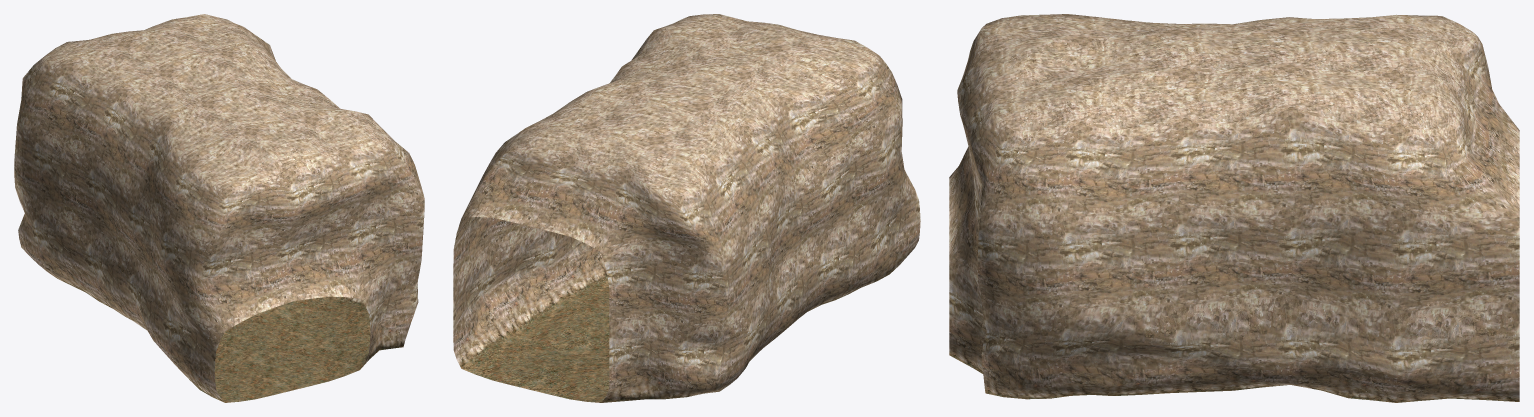
Rendered from thm_all_cave_s03_mirror_r10_mesh_r10.fbx.
3 renders of one model, left to right at view 1: azimuth 30°, elevation 25°; view 2: azimuth 150°, elevation 25°; view 3: azimuth 270°, elevation 25°, orthographic. The views are drawn at different scales.
Parts seen in each view (by area): view 1: mesh_node; view 2: mesh_node; view 3: mesh_node.
Boxes of the visible parts, left/top/right/bottom form: mesh_node: left=14, top=14, right=424, bottom=402; mesh_node: left=453, top=14, right=920, bottom=402; mesh_node: left=949, top=14, right=1519, bottom=402.
Size of the model in its own units: 27.52 by 23.69 by 40.81.
